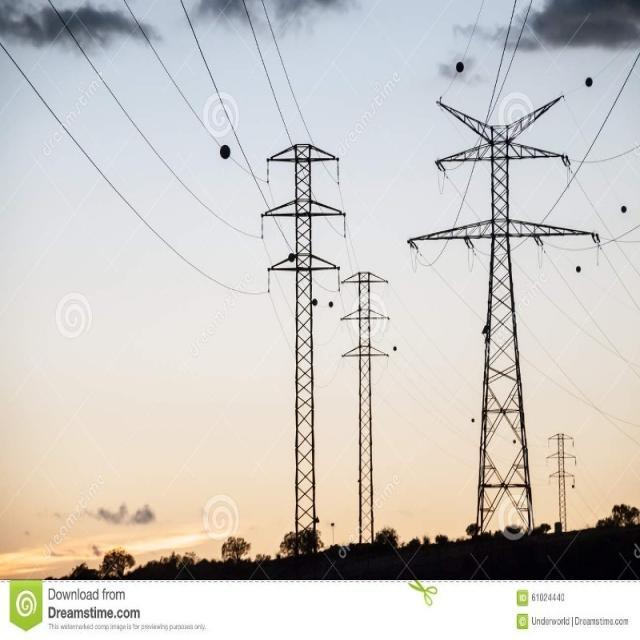non-critical vegetation: (416, 102, 551, 534), (258, 138, 339, 548), (340, 259, 378, 542), (544, 429, 580, 536)
